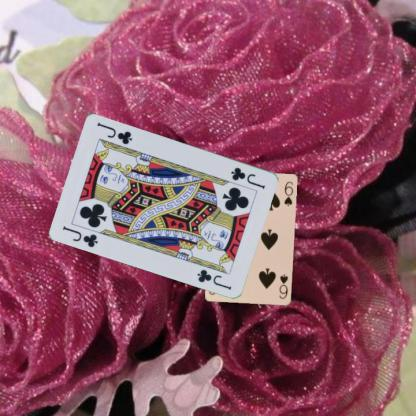6s: (277, 272, 289, 301)
Jc: (60, 223, 100, 248), (229, 164, 266, 190)
